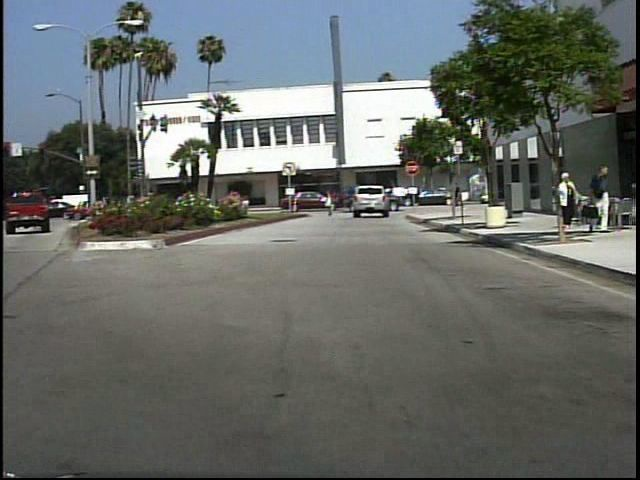person: (589, 162, 614, 234), (557, 171, 583, 228), (449, 180, 472, 214), (324, 187, 340, 219)
